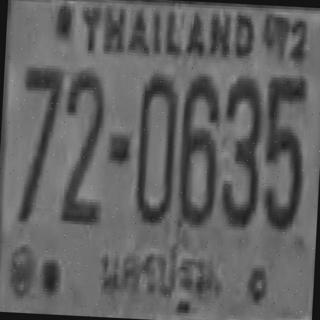N00: (133, 70, 177, 220)
N02: (59, 66, 105, 222)
N03: (218, 75, 262, 225)
N05: (260, 74, 307, 228)
N06: (175, 73, 220, 223)
N07: (15, 64, 62, 220)
P28: (94, 239, 221, 319)
